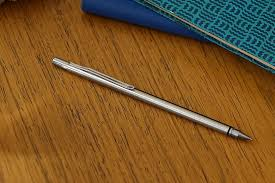pen: (48, 51, 255, 146)
